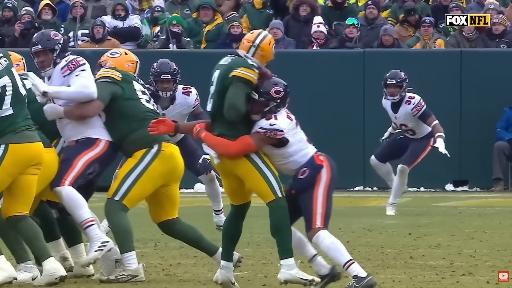Helmet: (30, 30, 70, 77), (251, 78, 289, 119), (239, 30, 274, 66), (150, 59, 180, 97), (98, 49, 139, 76), (383, 70, 407, 101), (8, 52, 26, 72)
Jersey: (96, 67, 170, 157), (206, 55, 259, 139), (253, 109, 317, 175), (0, 51, 39, 144), (21, 77, 59, 147), (383, 93, 431, 138), (156, 85, 199, 122), (56, 114, 111, 142)
Player: (194, 78, 376, 287), (64, 49, 222, 283), (204, 30, 319, 287), (28, 30, 118, 267), (0, 52, 66, 285), (22, 76, 93, 277), (370, 70, 449, 215), (172, 134, 225, 230)
